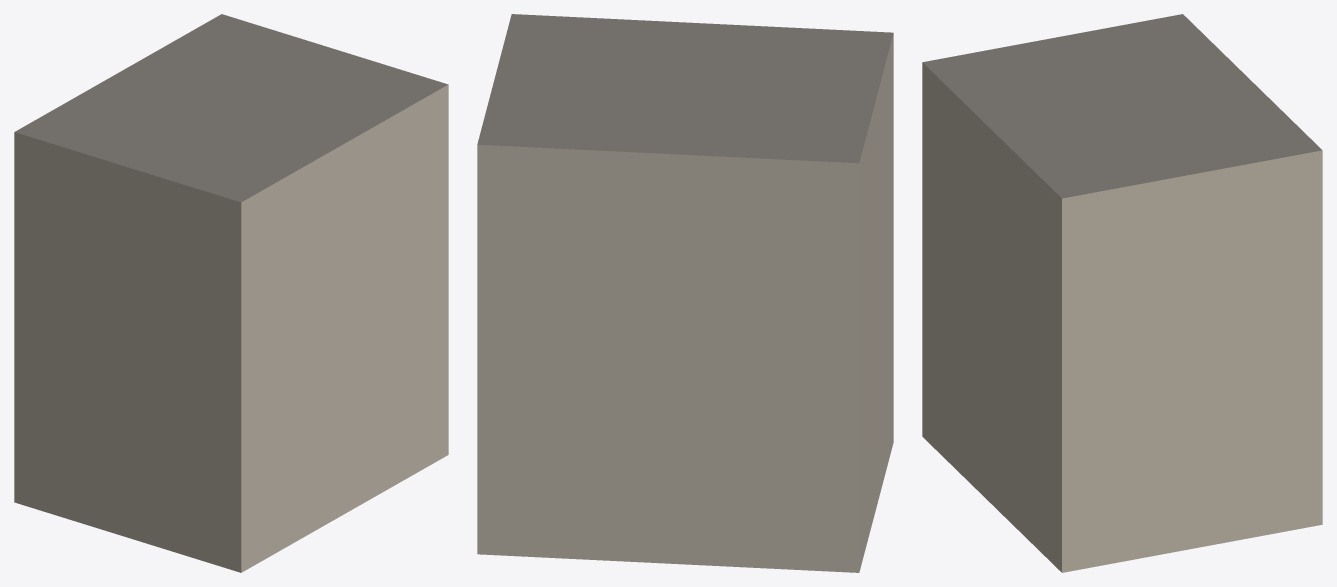
The picture shows the model from 3 angles, left to right: view 1: azimuth 30°, elevation 25°; view 2: azimuth 150°, elevation 25°; view 3: azimuth 270°, elevation 25°; orthographic projection. The views are drawn at different scales.
Parts seen in each view (by area): view 1: HP-w1287936333; view 2: HP-w1287936333; view 3: HP-w1287936333.
Boxes of the visible parts, <box> form: HP-w1287936333: <box>14,14,448,572</box>; HP-w1287936333: <box>477,14,893,572</box>; HP-w1287936333: <box>922,14,1322,572</box>.
Size of the model in its own units: 19.03 by 18 by 17.44.
